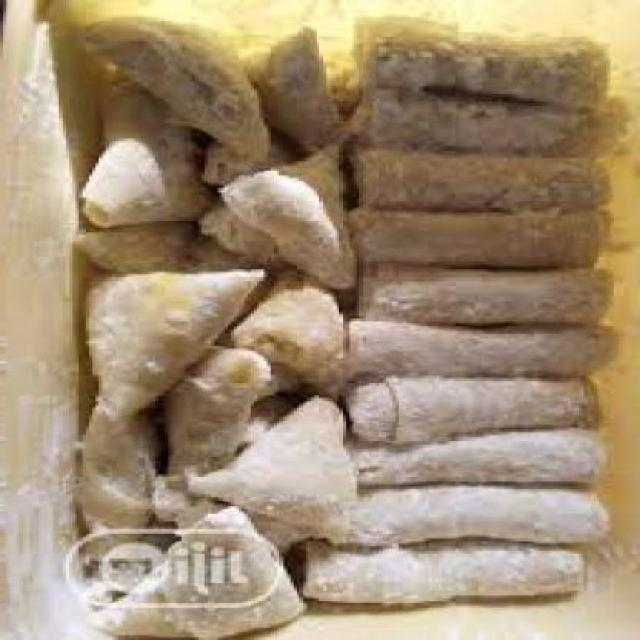samosa: (72, 15, 334, 638)
spring rolls: (304, 7, 627, 593)
